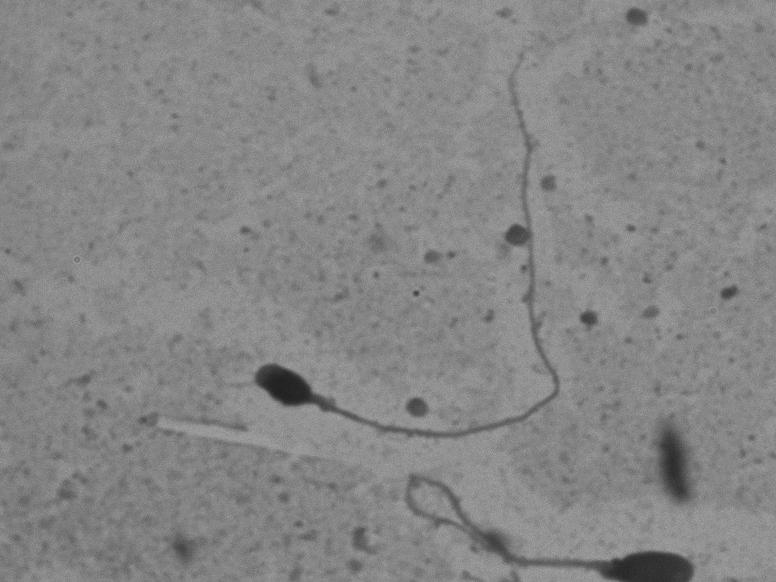Abnormal: (248, 35, 614, 461)
